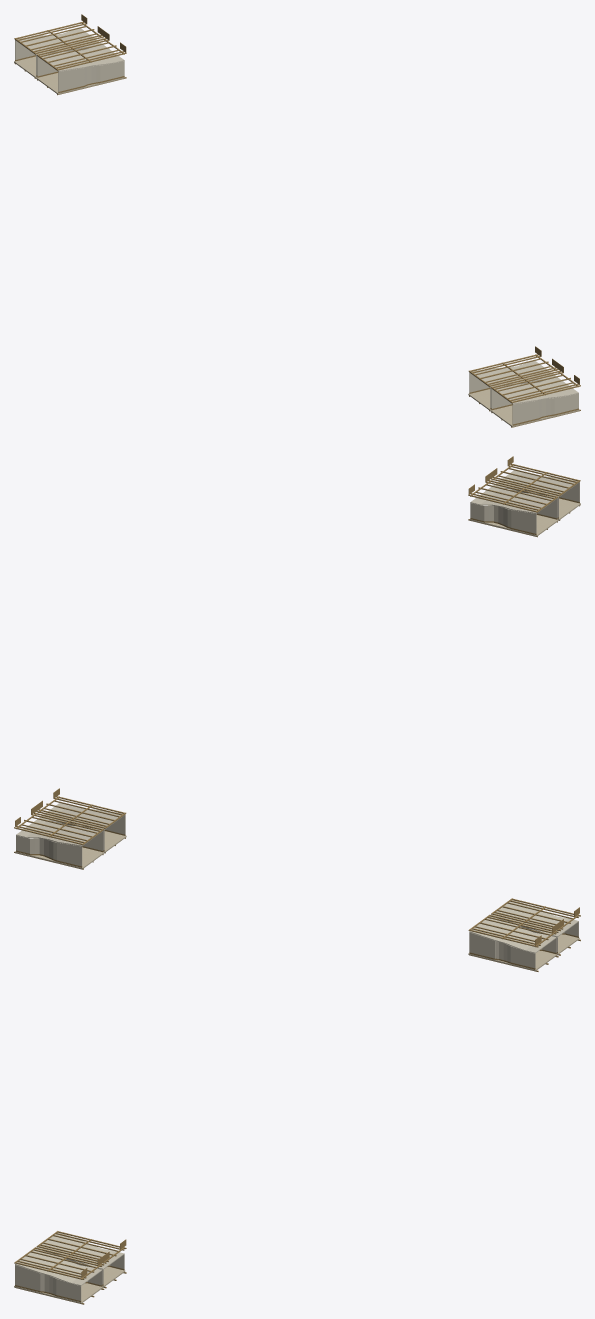
The model's file is StarAtlasSpecialtySeventhReceiving.glb.
The picture shows the model from 3 angles, top to bottom: view 1: azimuth 30°, elevation 25°; view 2: azimuth 150°, elevation 25°; view 3: azimuth 330°, elevation 25°; orthographic projection.
Parts seen in each view (by area): view 1: Persistent_527_SUI_Wall_L6, Persistent_497_SUI_Wall_L6; view 2: no part large enough to name; view 3: Persistent_497_SUI_Wall_L6.
Part boxes in pixels (x1,y1,x2,y2): Persistent_527_SUI_Wall_L6: (512, 400, 538, 424); Persistent_497_SUI_Wall_L6: (58, 68, 84, 91); Persistent_497_SUI_Wall_L6: (469, 932, 495, 958).
Bounding box in the file's own units: 13.25 × 6 × 165.
9 materials, 9 textured.
